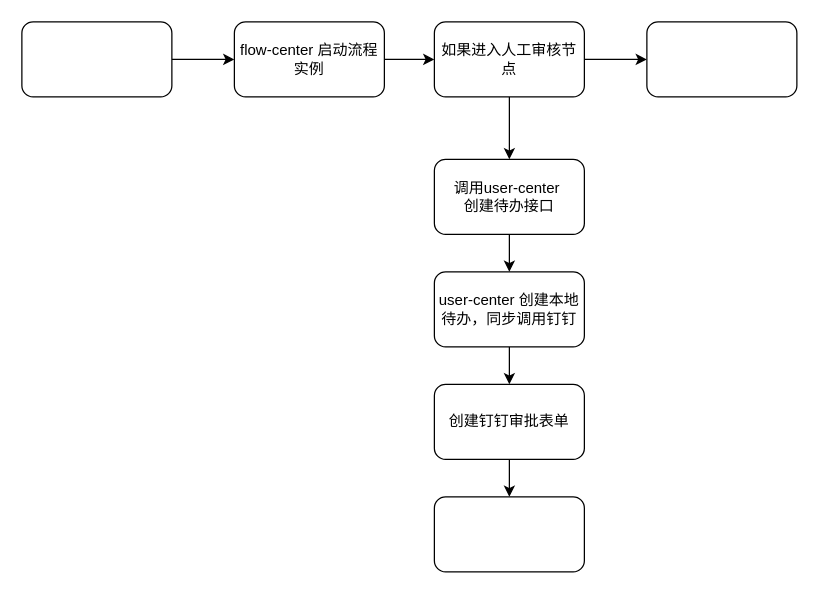
This 819x594 diagram has some shape labels left out. Here are the shapes that lost their labels. From the top down, the centre of each, then its label:
(x=96, y=59): robin-hood发起减免
(x=721, y=59): 等待人工审批
(x=508, y=534): 发送待办任务
